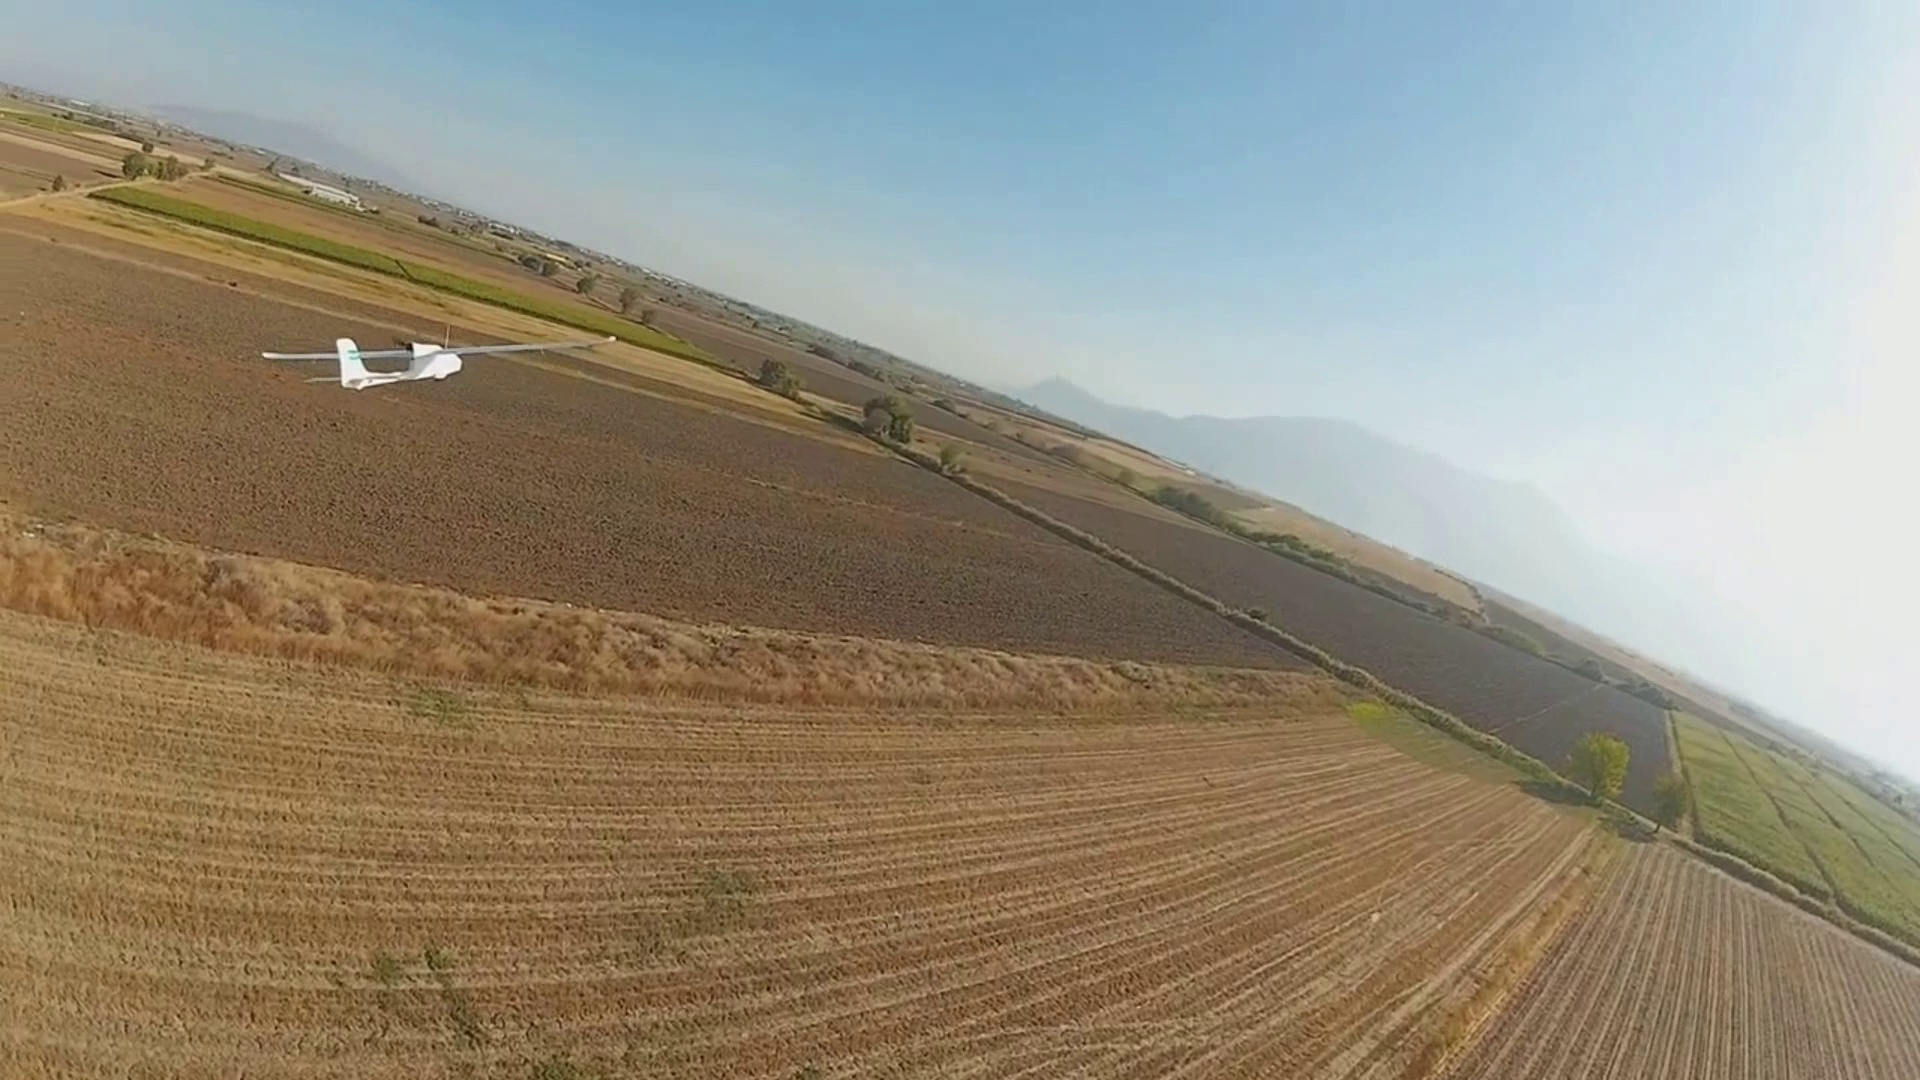airplane: (258, 335, 462, 386)
